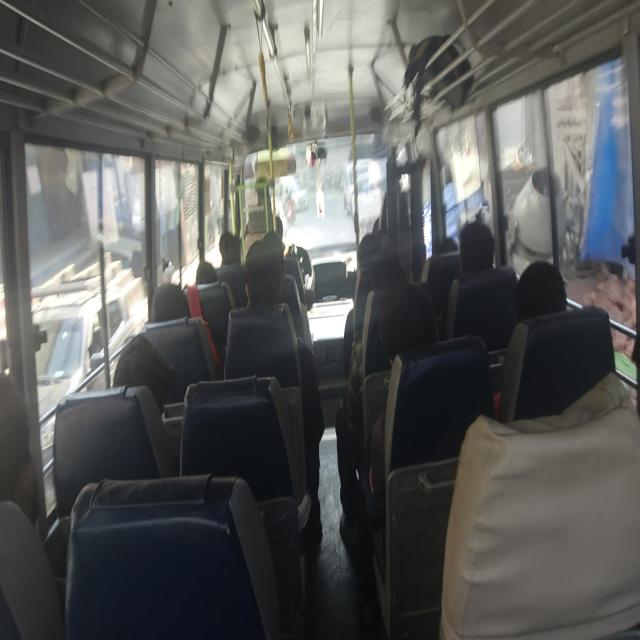person: (378, 300, 476, 412), (119, 333, 181, 441), (243, 230, 289, 339), (0, 370, 31, 529), (458, 231, 504, 303), (148, 280, 190, 350), (517, 266, 566, 320), (350, 226, 406, 272), (357, 267, 418, 305), (440, 226, 472, 271), (195, 251, 221, 300), (219, 229, 247, 274), (259, 228, 291, 264)
